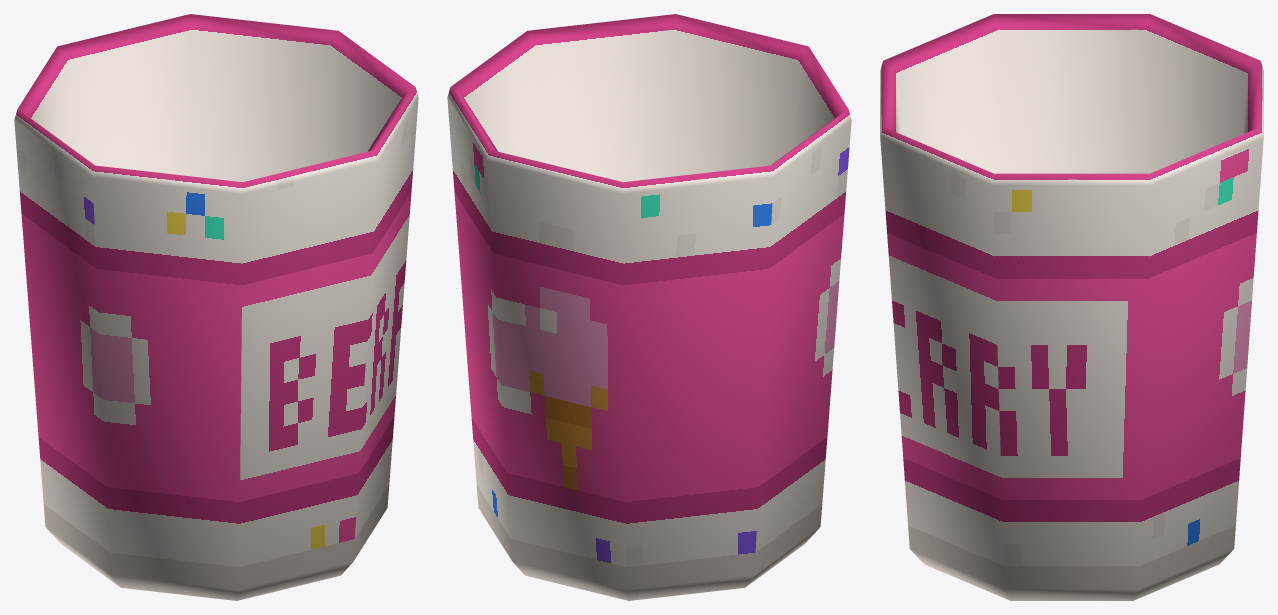
Rendered from Pint Strawberry Empty.fbx.
3 renders of one model, left to right at view 1: azimuth 30°, elevation 25°; view 2: azimuth 150°, elevation 25°; view 3: azimuth 270°, elevation 25°, orthographic.
Visible parts, largest first — view 1: Pint Strawberry Empty carton; view 2: Pint Strawberry Empty carton; view 3: Pint Strawberry Empty carton.
Part boxes in pixels (<box>): Pint Strawberry Empty carton: <box>14,14,418,600</box>; Pint Strawberry Empty carton: <box>447,14,851,600</box>; Pint Strawberry Empty carton: <box>880,14,1263,600</box>.
Bounding box in the file's own units: 0.0961 × 0.123 × 0.0961.
Materials: 2 (2 with a texture image).
